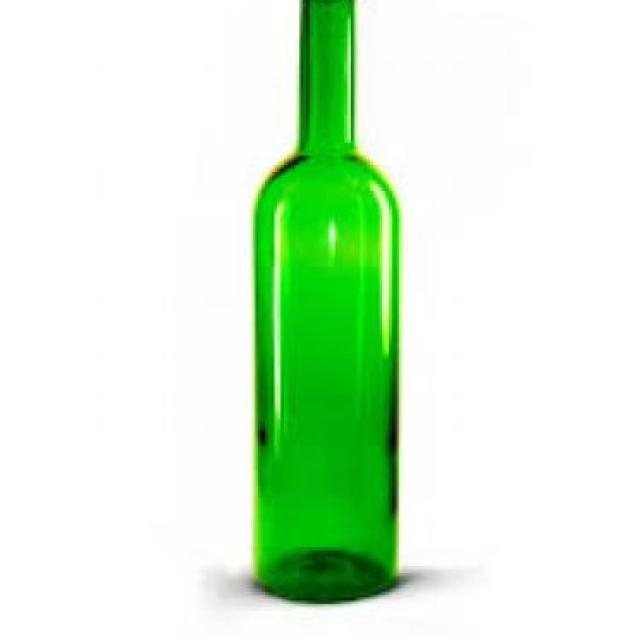kaca: (253, 1, 399, 598)
